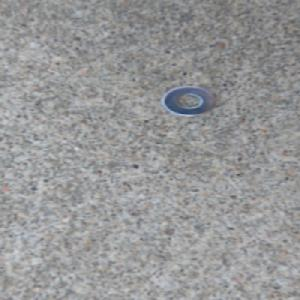Washer: (158, 84, 219, 118)
